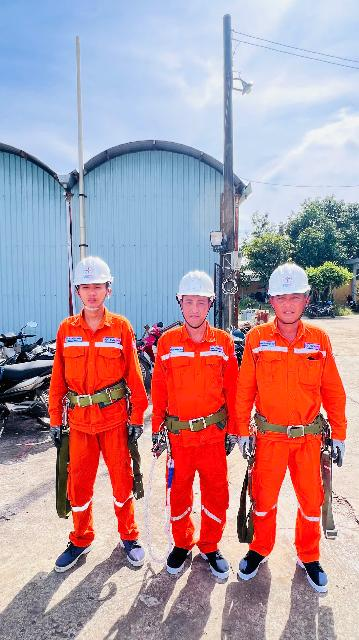gloves: (331, 435, 354, 463), (128, 418, 149, 447), (237, 432, 257, 462), (48, 425, 70, 451), (148, 431, 169, 455), (222, 434, 236, 461)
harness: (252, 406, 341, 437), (61, 378, 137, 409), (169, 402, 238, 434)
helmet: (263, 264, 319, 296), (69, 255, 117, 287), (182, 266, 217, 304)
shoes: (284, 552, 336, 602), (47, 533, 107, 569), (230, 535, 262, 585), (114, 532, 149, 572), (154, 536, 190, 572), (196, 547, 236, 577)
